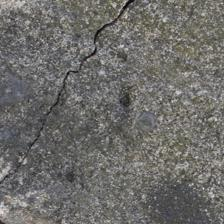Crack: (5, 2, 126, 174)
